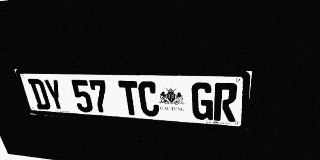5: (70, 79, 94, 113)
7: (88, 80, 111, 114)
C: (137, 81, 160, 117)
D: (27, 79, 52, 110)
G: (191, 82, 214, 120)
R: (214, 83, 238, 122)
T: (118, 81, 141, 116)
Y: (42, 79, 67, 111)
